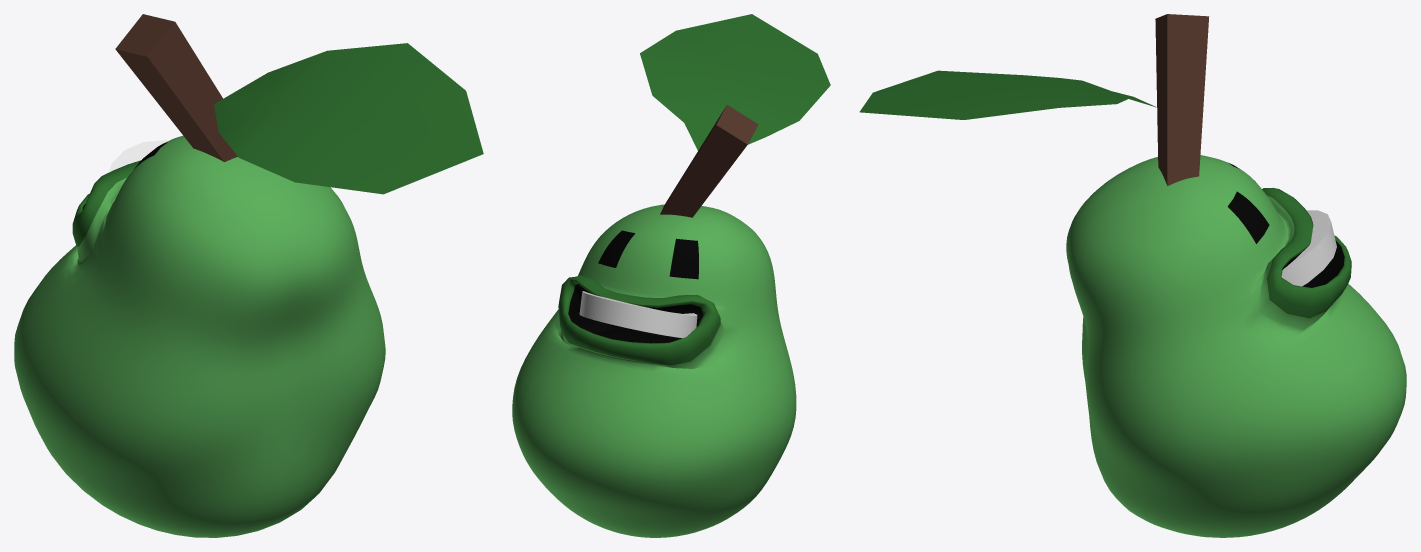
The model's file is Player_Geo.fbx.
3 views of the same model, side by side, from view 1: azimuth 30°, elevation 25°; view 2: azimuth 150°, elevation 25°; view 3: azimuth 270°, elevation 25° (orthographic). The views are drawn at different scales.
Parts seen in each view (by area): view 1: Player_Geo; view 2: Player_Geo; view 3: Player_Geo.
Boxes of the visible parts, x1,y1,x2,y2 form: Player_Geo: (14, 14, 483, 537); Player_Geo: (512, 14, 830, 537); Player_Geo: (859, 14, 1406, 537).
Size of the model in its own units: 186 by 303 by 311.
